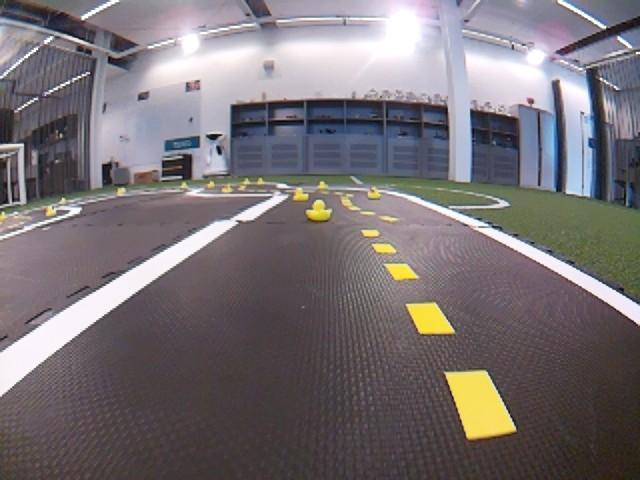Duckies: (305, 200, 332, 221), (292, 188, 309, 201), (367, 186, 381, 200), (45, 207, 57, 215), (222, 184, 233, 192), (317, 181, 327, 188), (181, 181, 188, 189), (257, 178, 265, 185), (242, 177, 250, 184), (58, 198, 67, 204), (0, 212, 6, 220), (117, 188, 123, 195), (208, 182, 216, 187), (121, 187, 126, 193)
